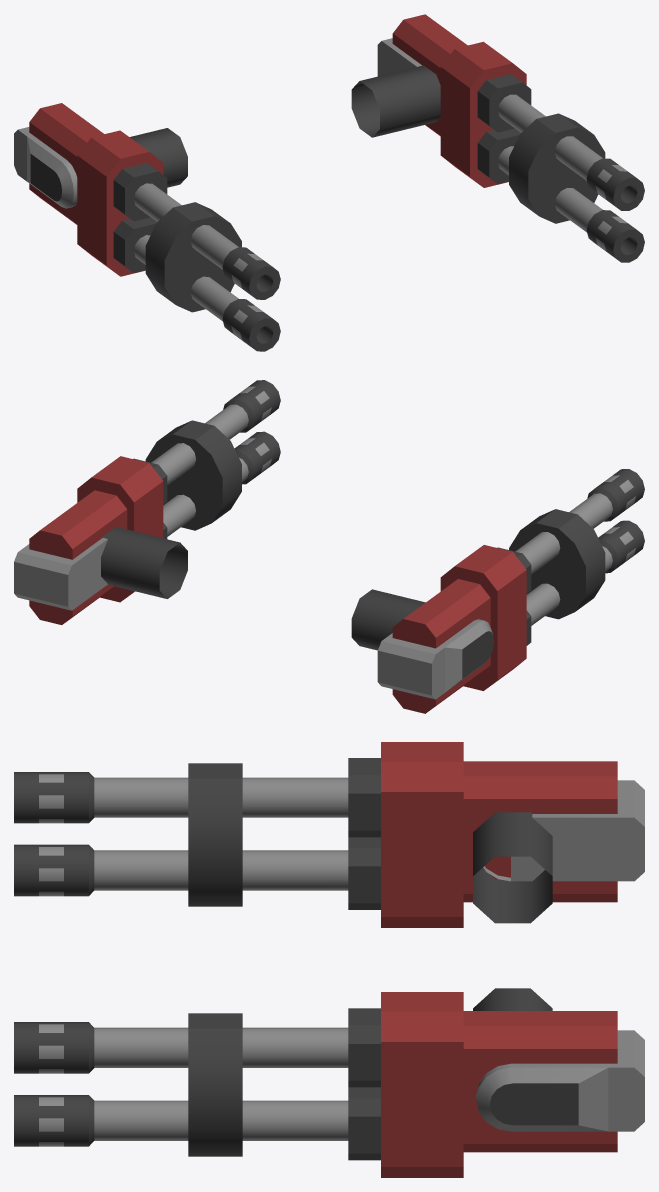
File: Robot_machine gun.fbx
The picture shows the model from 3 angles, top to bottom: view 1: azimuth 30°, elevation 25°; view 2: azimuth 150°, elevation 25°; view 3: azimuth 270°, elevation 25°; orthographic projection. The views are drawn at different scales.
Parts seen in each view (by area): view 1: gun-base.L.005, gun-base.R.005, gun.L.005, gun.R.005; view 2: gun-base.R.005, gun-base.L.005, gun.R.005, gun.L.005; view 3: gun-base.L.005, gun-base.R.005, gun.R.005, gun.L.005.
Part boxes in pixels (<box>): gun-base.L.005: <box>351,14,531,187</box>; gun-base.R.005: <box>14,103,187,276</box>; gun.L.005: <box>498,94,644,262</box>; gun.R.005: <box>134,183,280,351</box>; gun-base.R.005: <box>351,545,531,713</box>; gun-base.L.005: <box>14,456,187,624</box>; gun.R.005: <box>509,469,644,625</box>; gun.L.005: <box>145,380,280,536</box>; gun-base.L.005: <box>348,988,644,1177</box>; gun-base.R.005: <box>348,742,644,927</box>; gun.R.005: <box>14,763,348,906</box>; gun.L.005: <box>14,1013,348,1156</box>.
Size of the model in its own units: 82.85 by 21.18 by 72.96.
